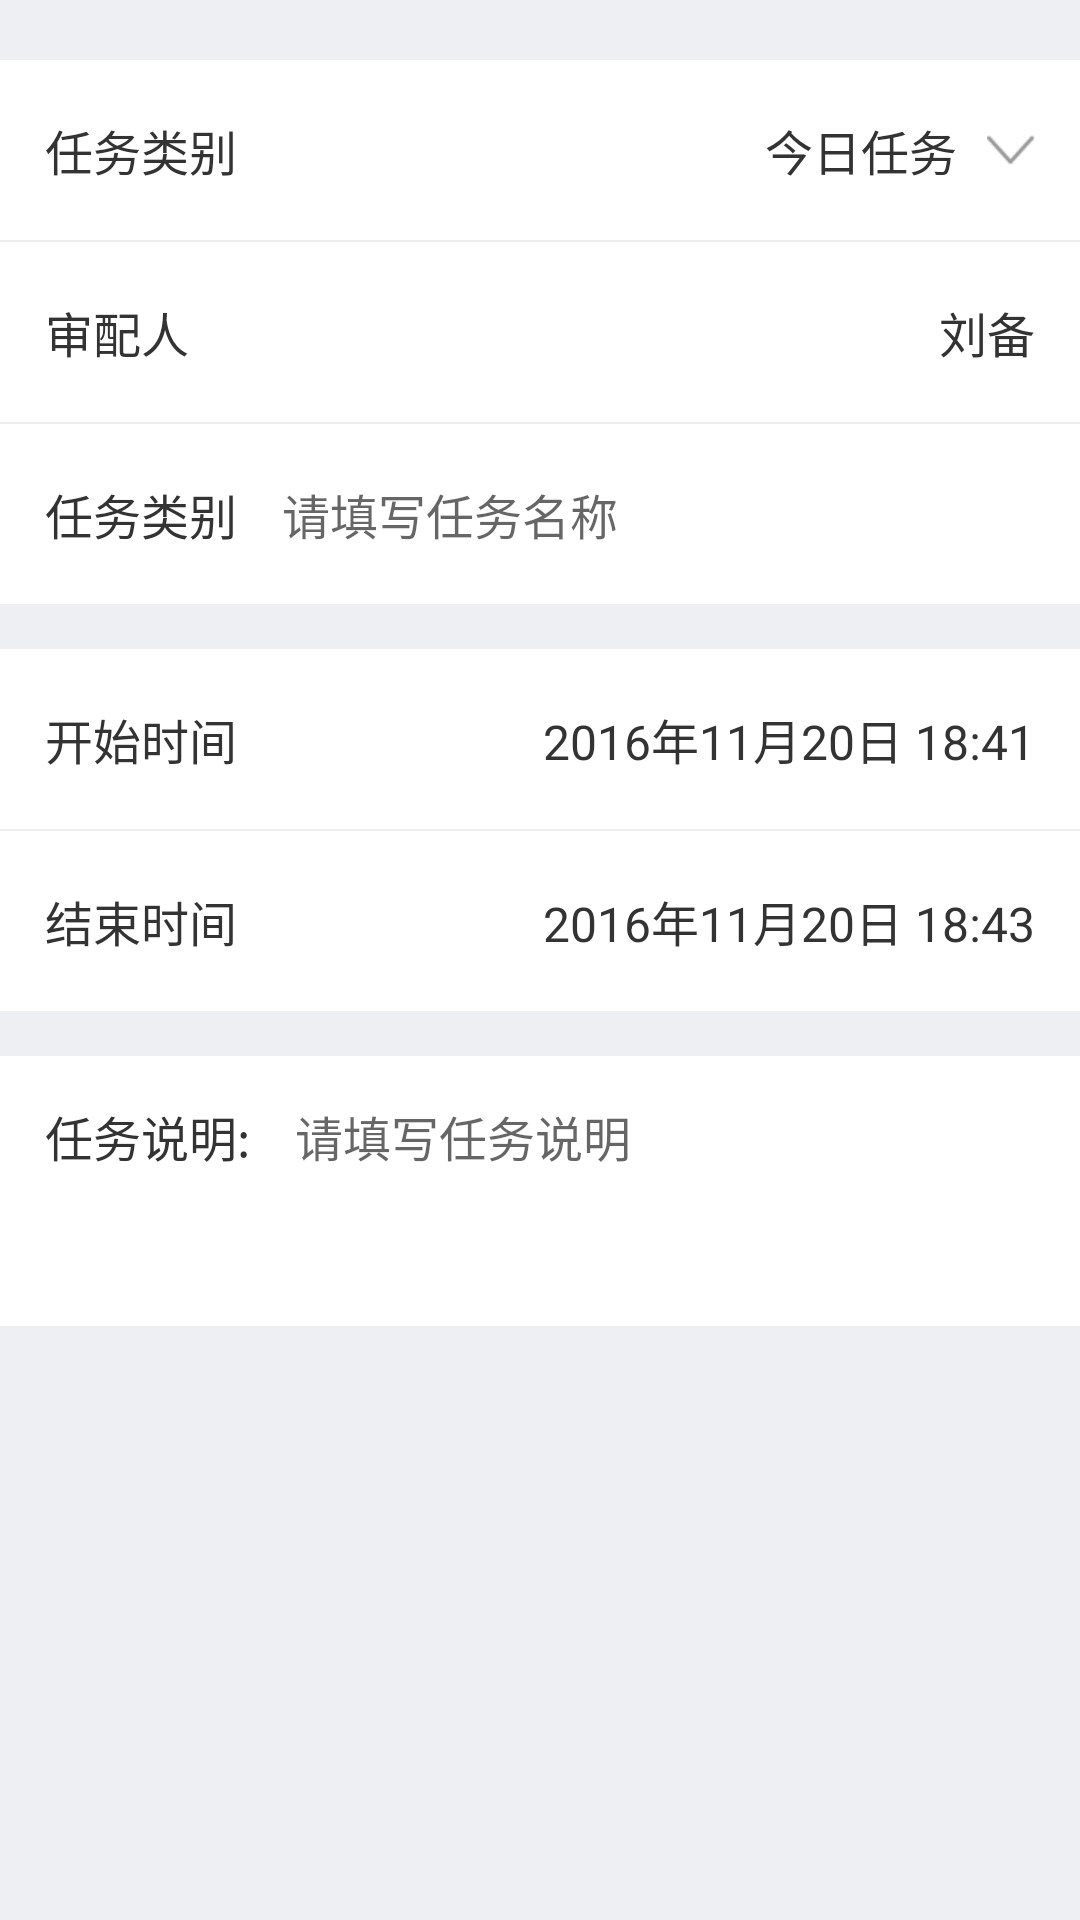

Icon bounding boxes for this 1080*1920 phone screenshot, format (x1, y1, x2, y2):
ir down: (987, 136, 1034, 164)
